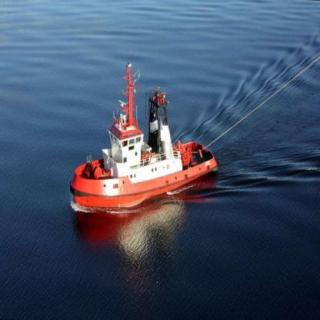Tug Boat: (70, 58, 218, 210)
